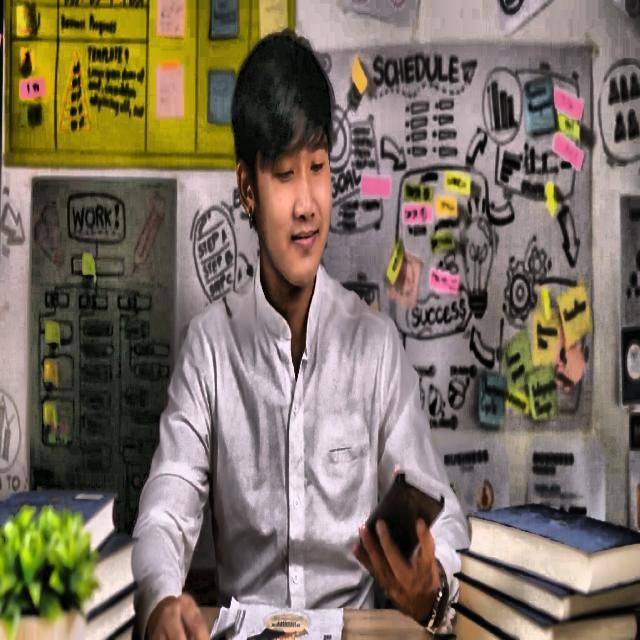Phone: (358, 469, 448, 566)
